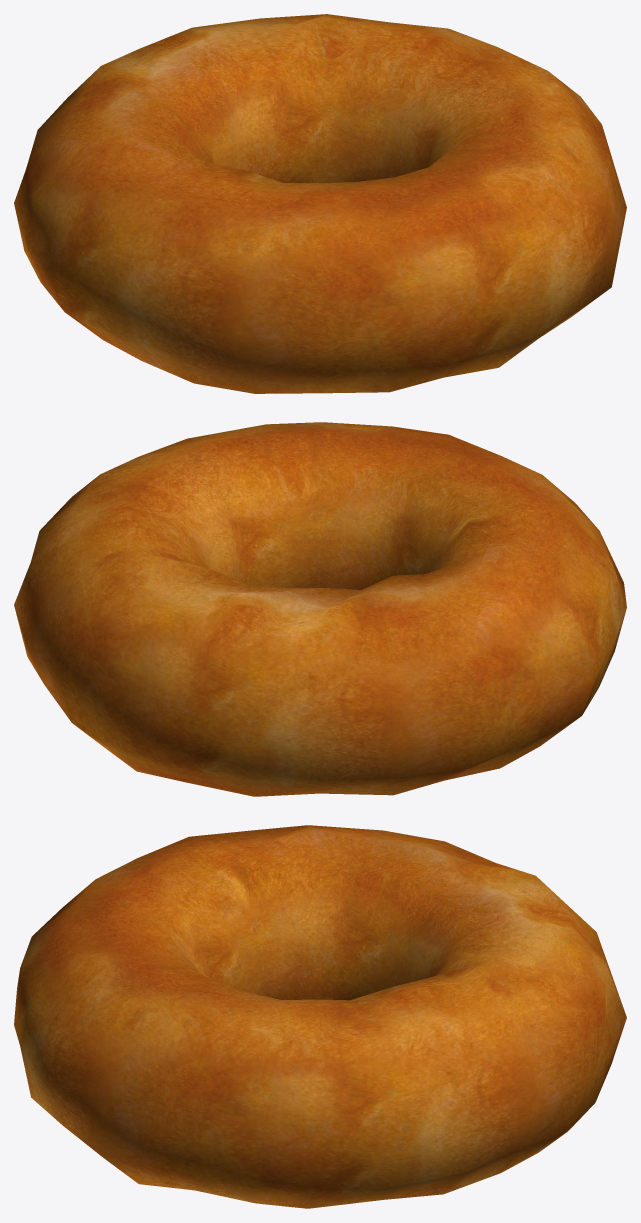
File: bagel.fbx
3 renders of one model, top to bottom at view 1: azimuth 30°, elevation 25°; view 2: azimuth 150°, elevation 25°; view 3: azimuth 270°, elevation 25°, orthographic.
Visible parts, largest first — view 1: bagel; view 2: bagel; view 3: bagel.
Part boxes in pixels (x1=…): bagel: x1=14, y1=14, x2=626, y2=393; bagel: x1=14, y1=422, x2=626, y2=796; bagel: x1=14, y1=825, x2=626, y2=1208.
Bounding box in the file's own units: 0.1168 × 0.0416 × 0.1143.
Materials: 1 (1 with a texture image).
